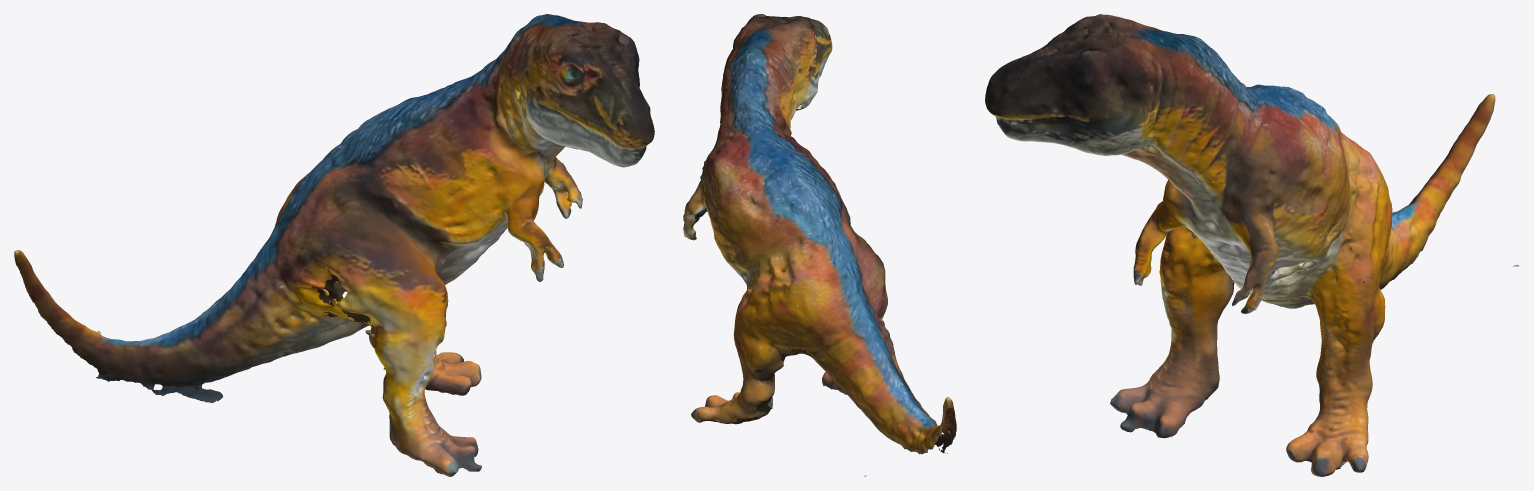
The model's file is asset.glb.
3 views of the same model, side by side, from view 1: azimuth 30°, elevation 25°; view 2: azimuth 150°, elevation 25°; view 3: azimuth 270°, elevation 25° (orthographic). The views are drawn at different scales.
Parts seen in each view (by area): view 1: mesh_medpoly; view 2: mesh_medpoly; view 3: mesh_medpoly.
Boxes of the visible parts, x1,y1,x2,y2 form: mesh_medpoly: (14,14,654,476); mesh_medpoly: (683,14,956,476); mesh_medpoly: (985,14,1519,476).
Bounding box in the file's own units: 9.72 × 8.69 × 9.2.
62 materials, 62 textured.
